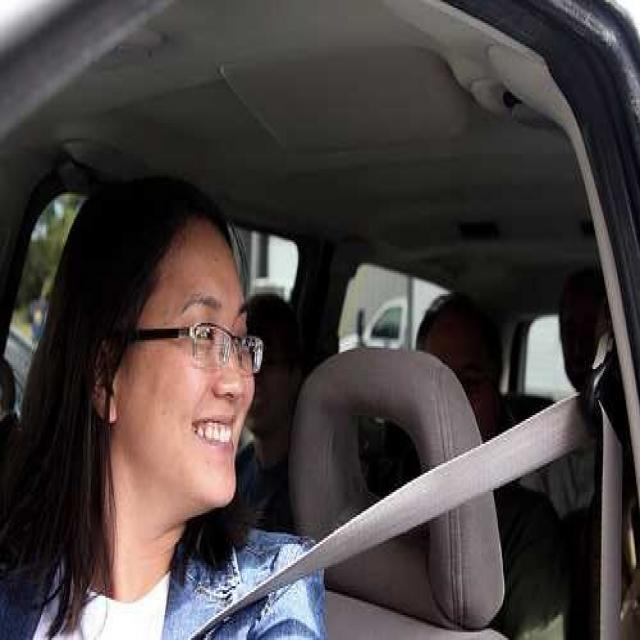awake: (192, 325, 226, 348)
seatbelt: (179, 375, 626, 640)
